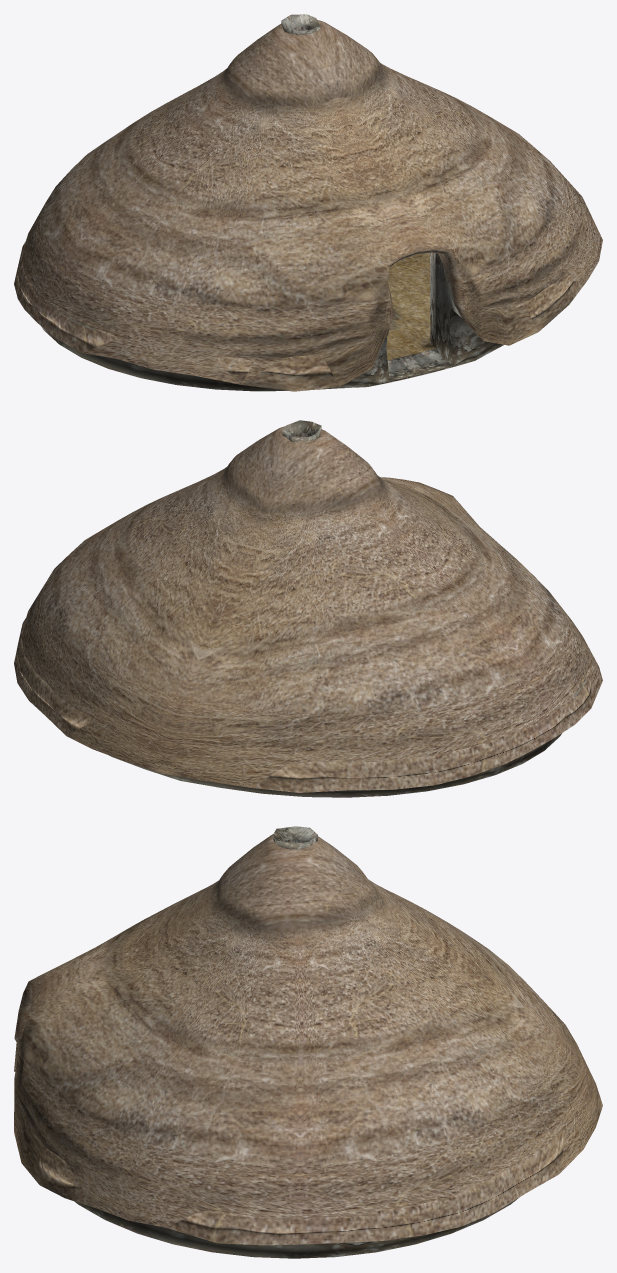
The model's file is native_house_or_building_c.glb.
The picture shows the model from 3 angles, top to bottom: view 1: azimuth 30°, elevation 25°; view 2: azimuth 150°, elevation 25°; view 3: azimuth 270°, elevation 25°; orthographic projection. The views are drawn at different scales.
Parts seen in each view (by area): view 1: vi_building11; view 2: vi_building11; view 3: vi_building11.
Boxes of the visible parts, x1,y1,x2,y2 form: vi_building11: [14, 14, 602, 391]; vi_building11: [14, 420, 602, 797]; vi_building11: [14, 826, 602, 1258].
Size of the model in its own units: 1242 by 608 by 1099.
Materials: 5 (5 with a texture image).
